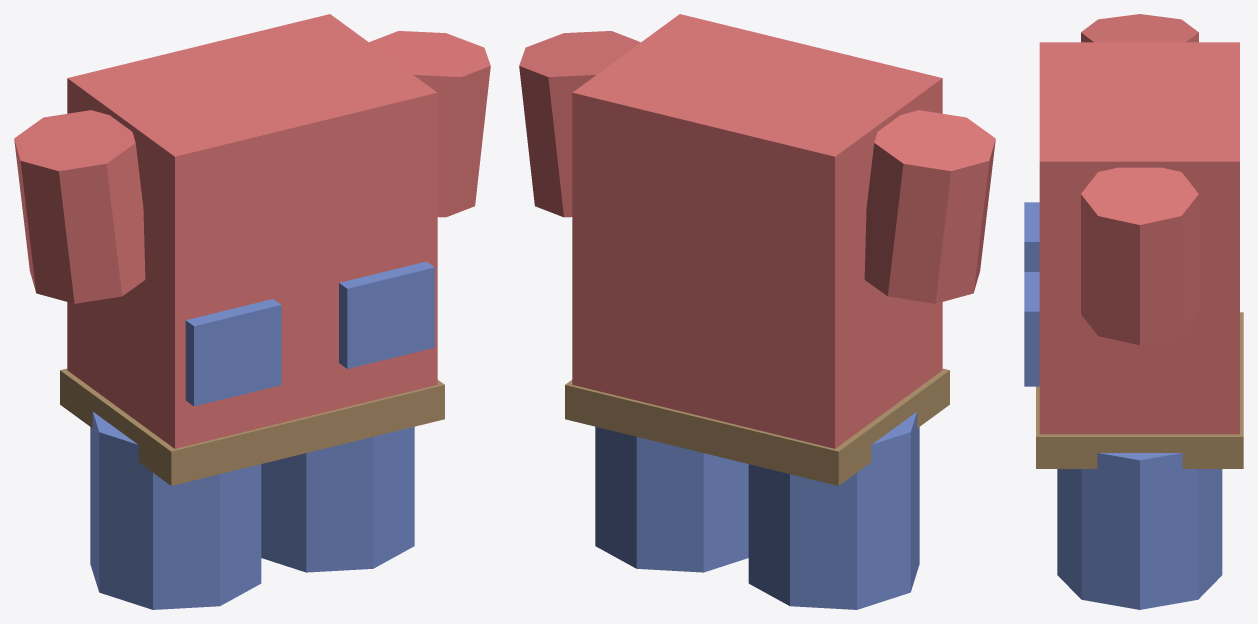
The model's file is explorer.glb.
3 views of the same model, side by side, from view 1: azimuth 30°, elevation 25°; view 2: azimuth 150°, elevation 25°; view 3: azimuth 270°, elevation 25° (orthographic). The views are drawn at different scales.
Parts seen in each view (by area): view 1: top, pant, sleeve, pant.001, belt, sleeve.001, pocket, pocket.001; view 2: top, pant, sleeve, pant.001, belt, sleeve.001; view 3: top, pant.001, sleeve.001, belt, sleeve, pocket.001, pocket.
Boxes of the visible parts, <box> form: top: <box>67,14,437,448</box>; pant: <box>90,411,261,609</box>; sleeve: <box>14,110,145,303</box>; pant.001: <box>261,426,414,572</box>; belt: <box>60,368,444,485</box>; sleeve.001: <box>369,31,490,217</box>; pocket: <box>185,299,281,406</box>; pocket.001: <box>339,261,434,368</box>; top: <box>572,14,942,448</box>; pant: <box>748,411,919,609</box>; sleeve: <box>864,110,995,303</box>; pant.001: <box>595,426,748,572</box>; belt: <box>565,368,949,485</box>; sleeve.001: <box>519,31,640,217</box>; top: <box>1039,42,1239,434</box>; pant.001: <box>1057,453,1222,609</box>; sleeve.001: <box>1081,167,1198,345</box>; belt: <box>1036,312,1243,468</box>; sleeve: <box>1081,14,1198,42</box>; pocket.001: <box>1024,272,1039,386</box>; pocket: <box>1024,202,1039,271</box>.
Bounding box in the file's own units: 0.4236 × 0.41 × 0.186.
